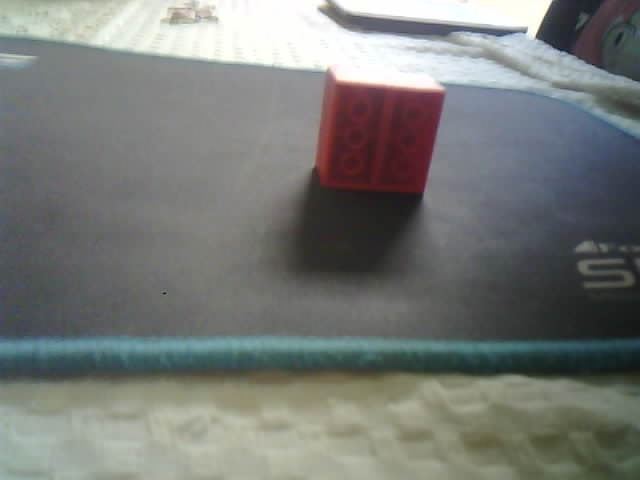lego: (314, 65, 446, 195)
